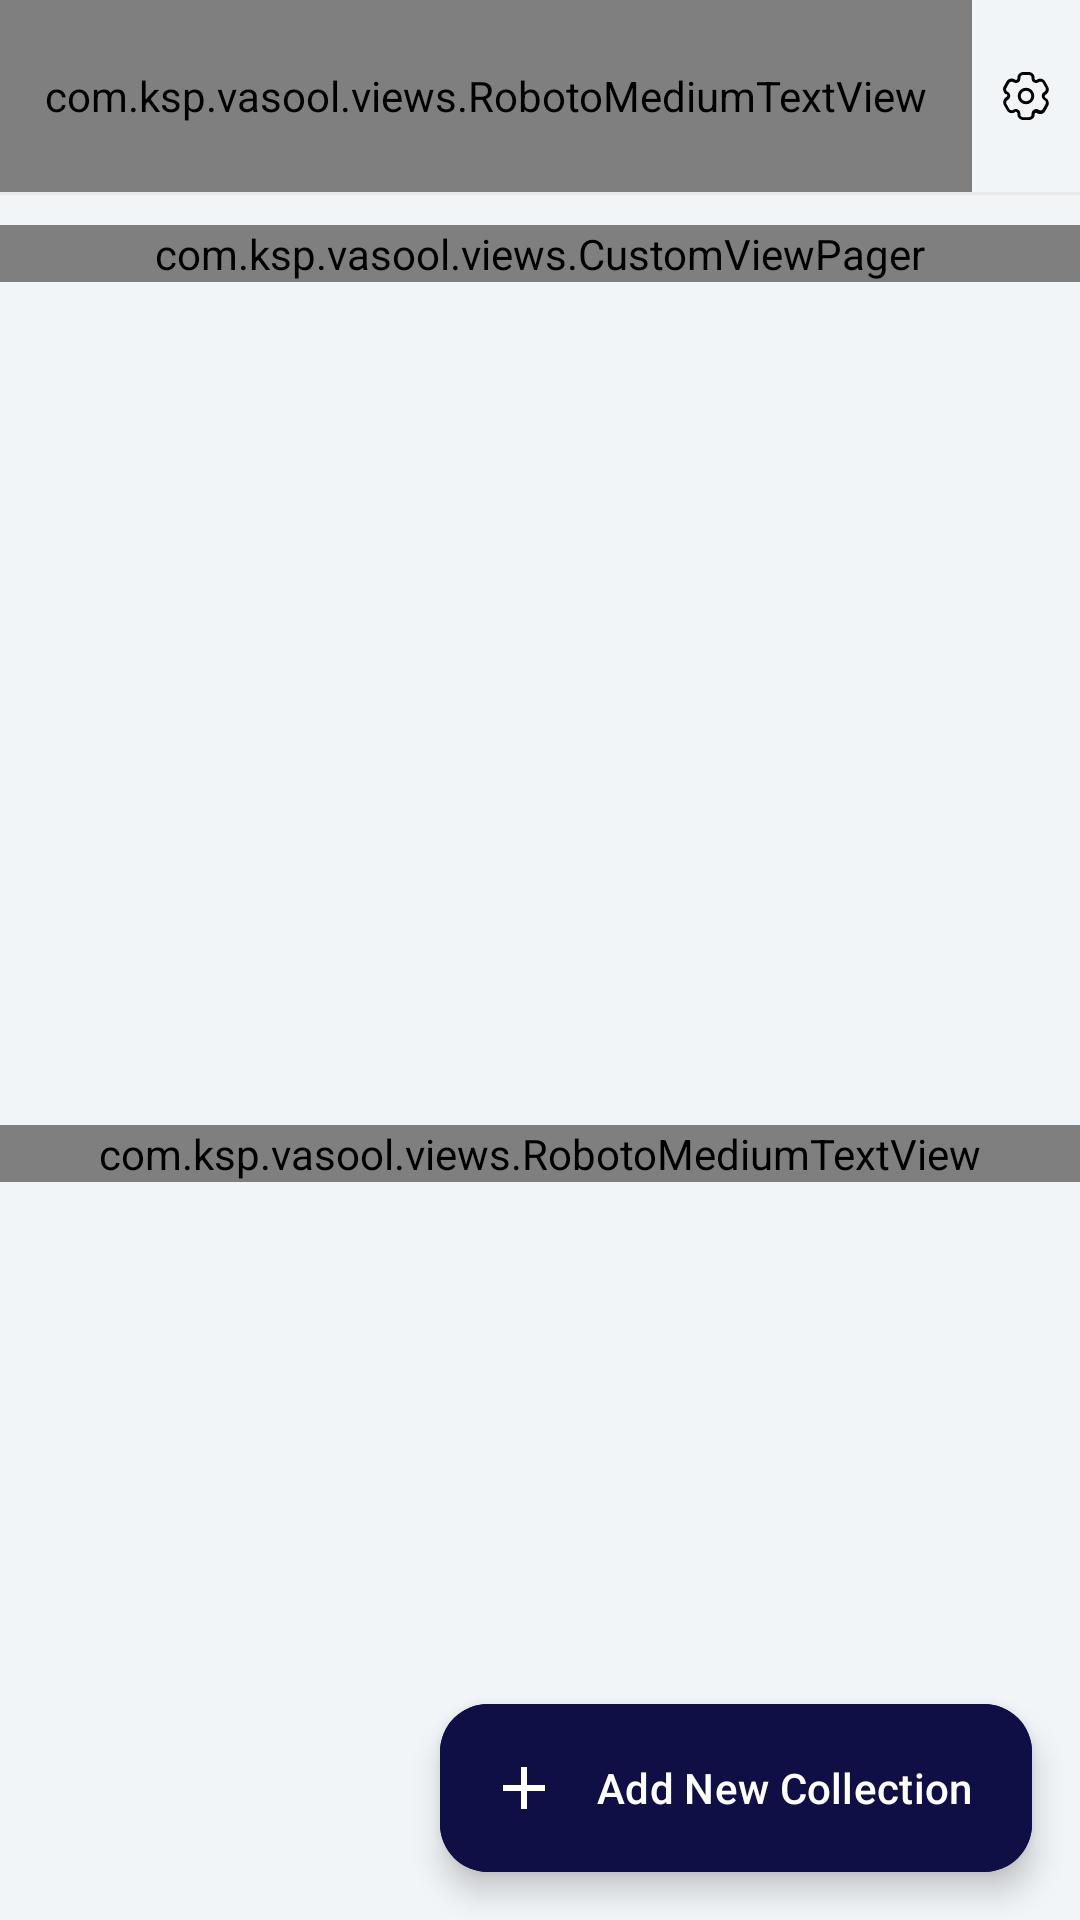

Icons on this 1080px×1920px Android screen, each with the point to tap as (x,y):
settings: (1026,96)
